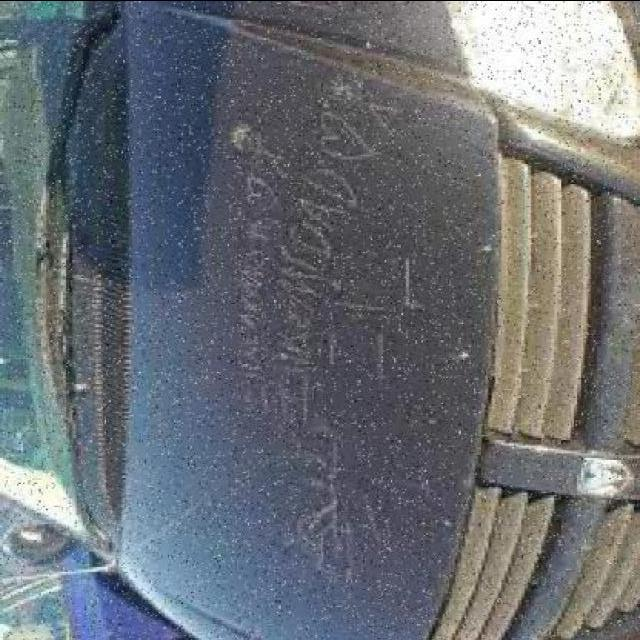bonnet-dent: (33, 2, 512, 640)
